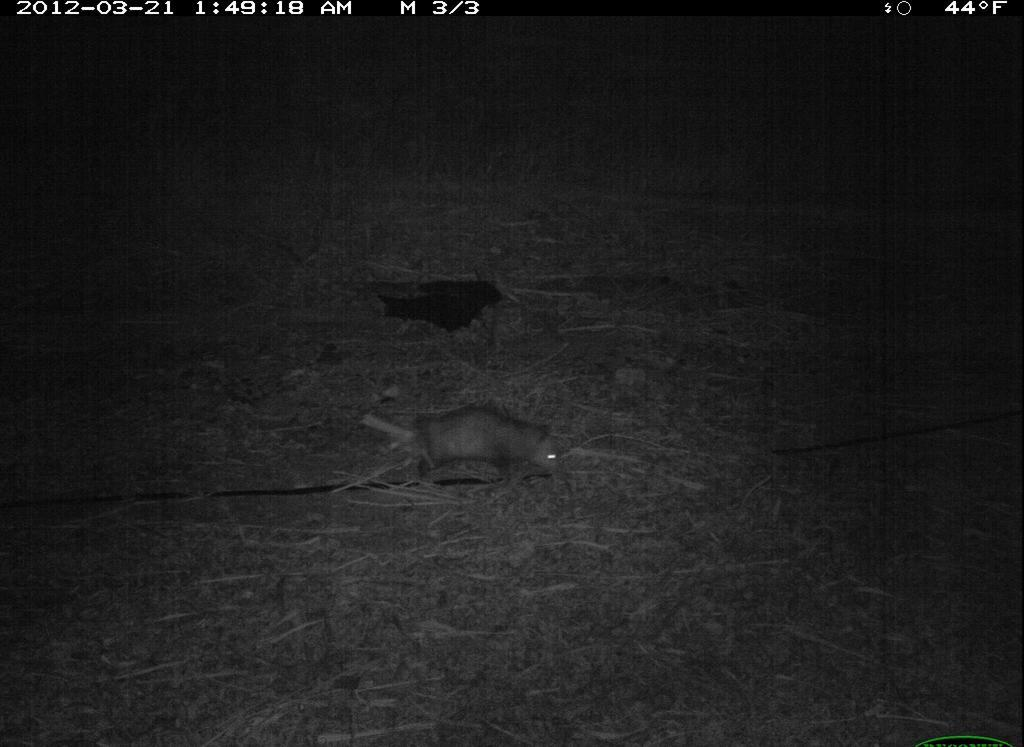opossum: (381, 388, 575, 506)
